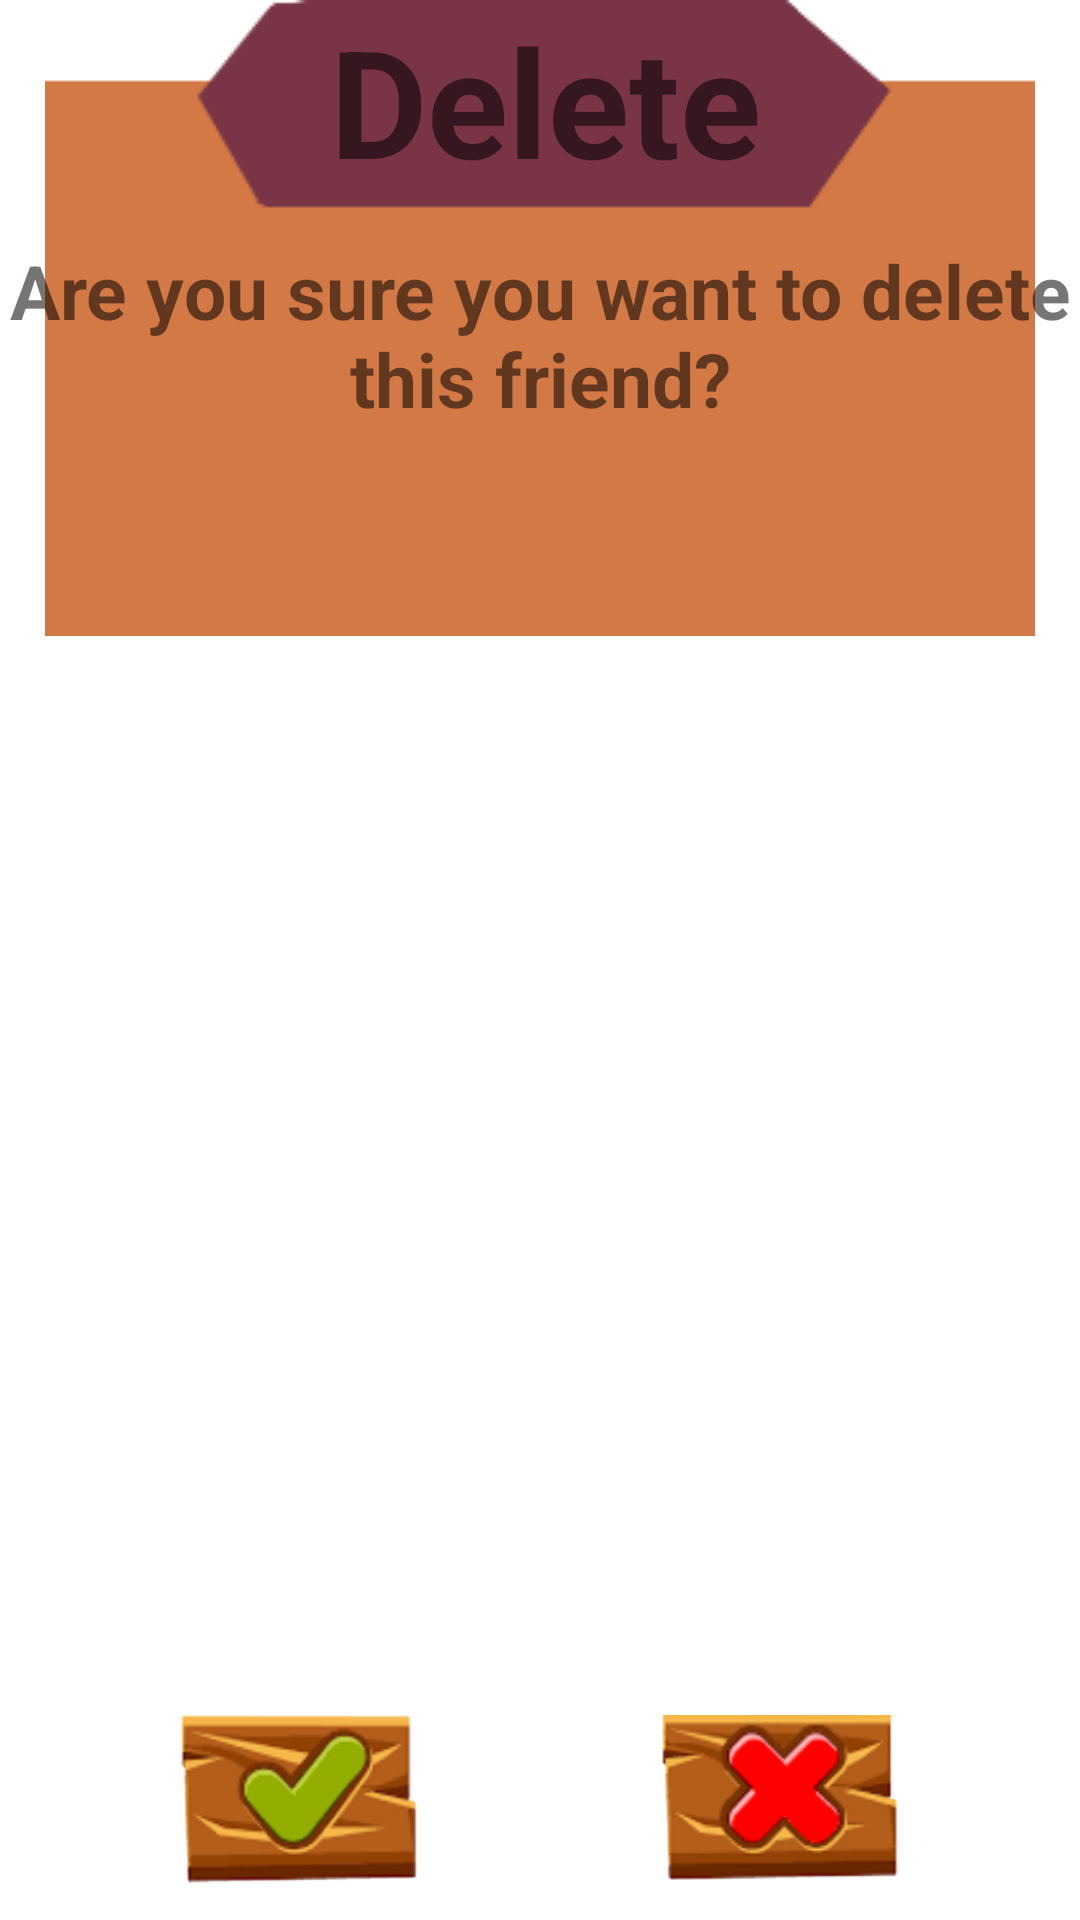

Locate icon controls on the screen. Image size 1080w x 1920h, boxes as box=[x1, y1, x2, y2].
yes: box=[181, 1715, 417, 1883]
